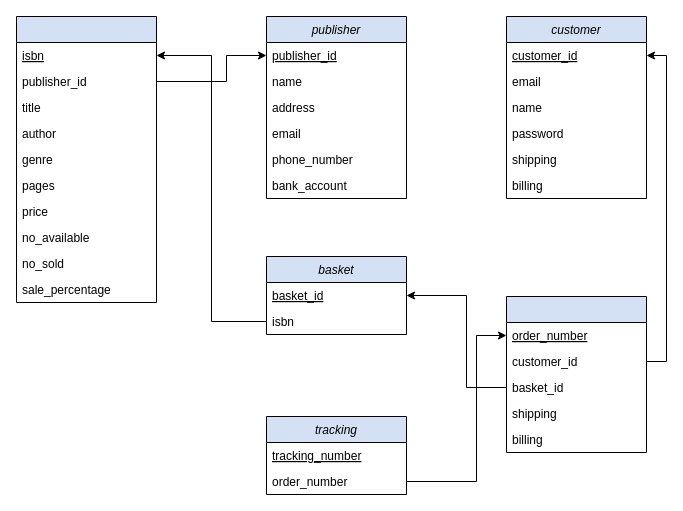
Image size: 683x511. Some labels were removed from this diagram. The box of each missing label's shape, as (x1, y1, x2, y2) in pixels:
book: (16, 16, 156, 302)
order_info: (506, 296, 646, 452)
